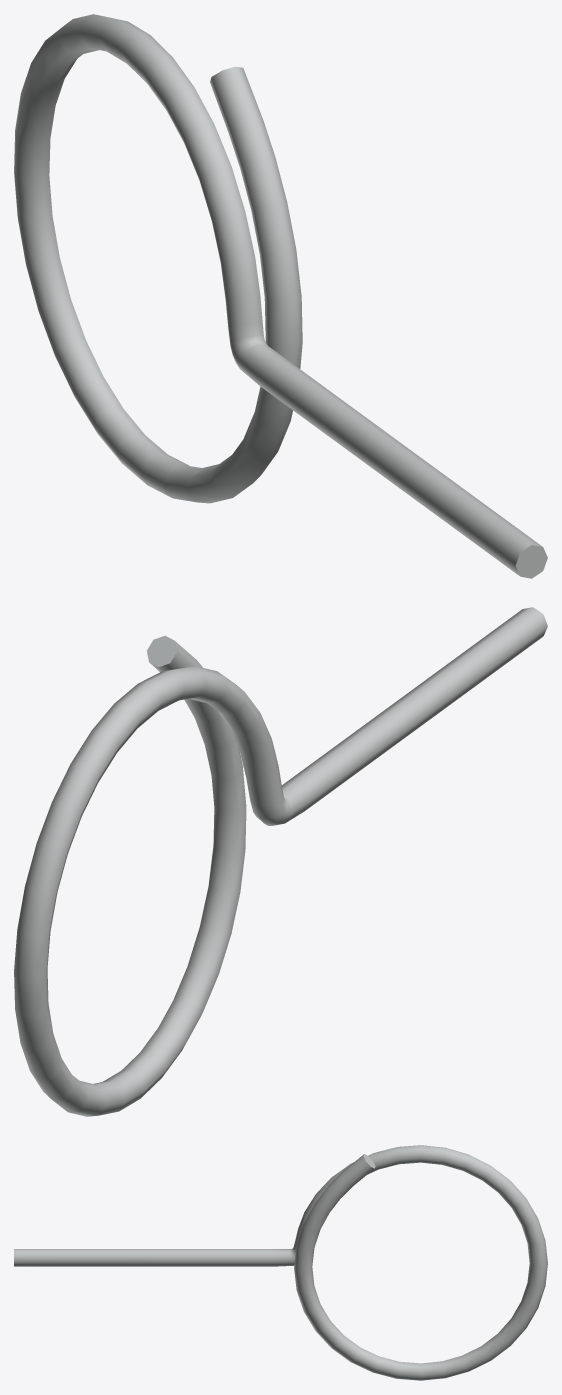
The model's file is chika_extinguisher_uglekislotnyi.fbx.
3 views of the same model, one above another, from view 1: azimuth 30°, elevation 25°; view 2: azimuth 150°, elevation 25°; view 3: azimuth 270°, elevation 25° (orthographic). The views are drawn at different scales.
Parts seen in each view (by area): view 1: chika; view 2: chika; view 3: chika.
Part boxes in pixels (x1,y1,x2,y2): chika: (14,14,547,578); chika: (14,607,547,1116); chika: (14,1145,547,1380).
Bounding box in the file's own units: 0.9162 × 4.97 × 10.45.
